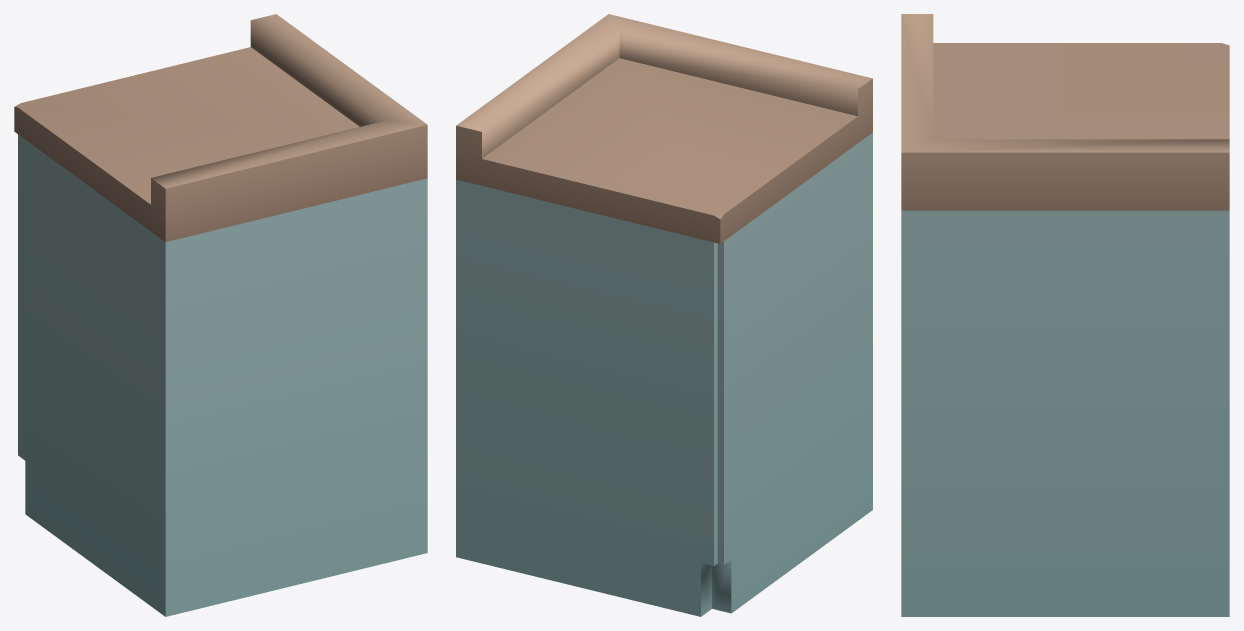
The model's file is cabinet-decorative-corner.glb.
3 renders of one model, left to right at view 1: azimuth 30°, elevation 25°; view 2: azimuth 150°, elevation 25°; view 3: azimuth 270°, elevation 25°, orthographic. The views are drawn at different scales.
Visible parts, largest first — view 1: cabinet-decorative-corner; view 2: cabinet-decorative-corner; view 3: cabinet-decorative-corner.
Part boxes in pixels (bbox=[...]): cabinet-decorative-corner: bbox=[14, 14, 427, 616]; cabinet-decorative-corner: bbox=[456, 14, 872, 616]; cabinet-decorative-corner: bbox=[901, 14, 1229, 616].
Bounding box in the file's own units: 0.5125 × 0.8 × 0.5125.
